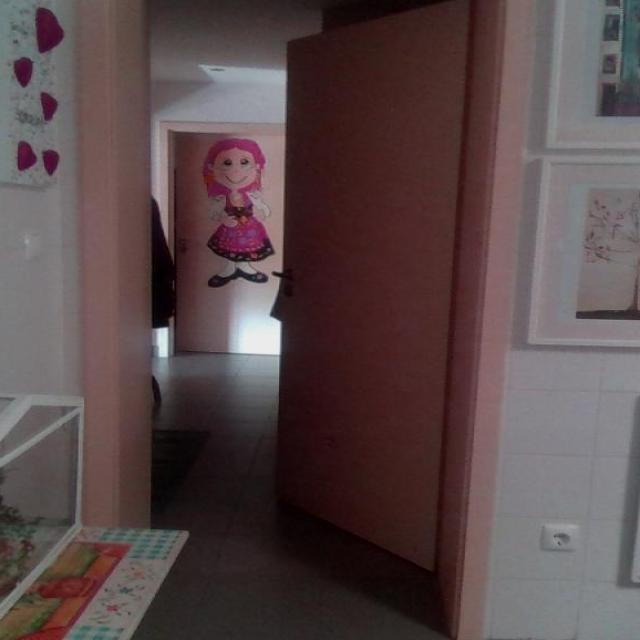door: (273, 1, 473, 573)
